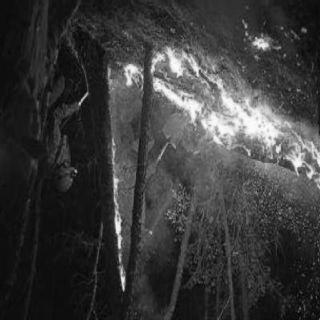Fire: (150, 53, 318, 177), (113, 121, 127, 299), (121, 62, 145, 100), (248, 32, 274, 52)
